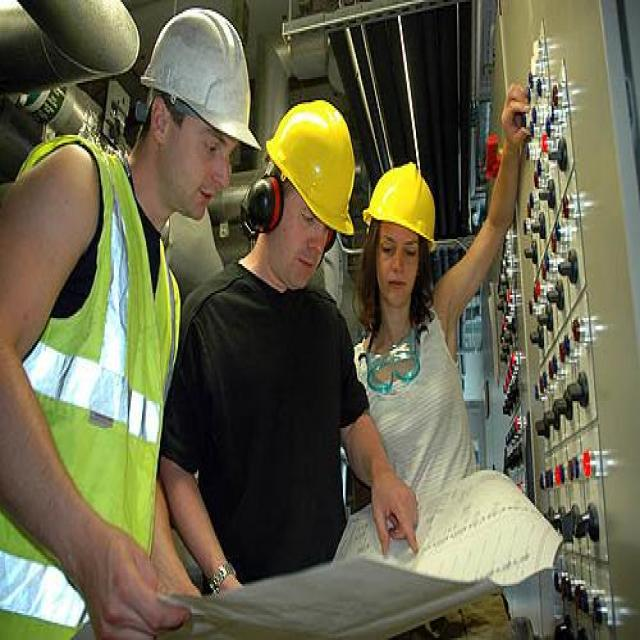Reflective-Jacket: (0, 127, 189, 636)
Safety-Helmet: (137, 8, 261, 158), (264, 90, 359, 244), (361, 154, 445, 256)
